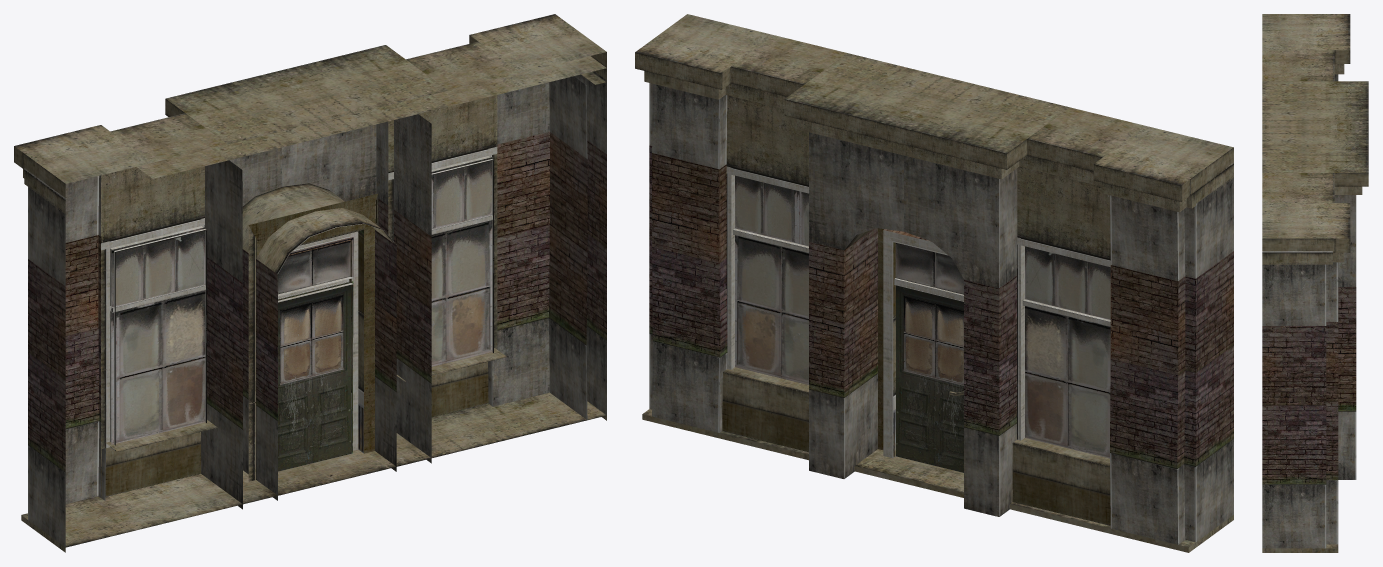
The model's file is Store_front_47.fbx.
The picture shows the model from 3 angles, left to right: view 1: azimuth 30°, elevation 25°; view 2: azimuth 150°, elevation 25°; view 3: azimuth 270°, elevation 25°; orthographic projection. The views are drawn at different scales.
Visible parts, largest first — view 1: Store_front_47; view 2: Store_front_47; view 3: Store_front_47.
Part boxes in pixels (x1,y1,x2,y2): Store_front_47: [14, 14, 606, 552]; Store_front_47: [635, 14, 1233, 552]; Store_front_47: [1262, 14, 1368, 552].
Bounding box in the file's own units: 700 × 456 × 140.
